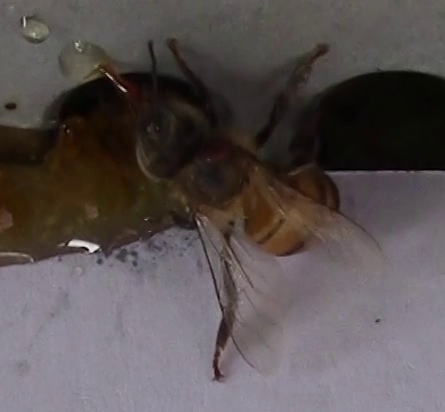Varroa destructor: (199, 135, 236, 162)
